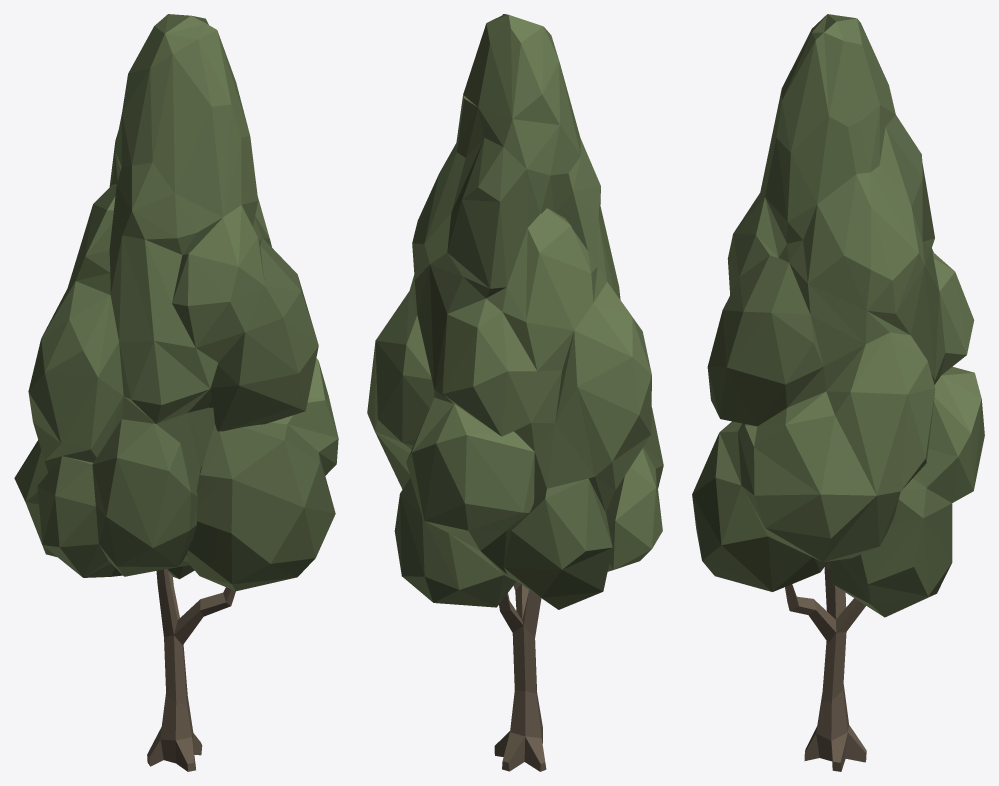
File: Env_Tree_02.glb
3 views of the same model, side by side, from view 1: azimuth 30°, elevation 25°; view 2: azimuth 150°, elevation 25°; view 3: azimuth 270°, elevation 25° (orthographic).
Parts seen in each view (by area): view 1: SM_Gen_Env_Tree_02; view 2: SM_Gen_Env_Tree_02; view 3: SM_Gen_Env_Tree_02.
Part boxes in pixels (bbox=[...]): SM_Gen_Env_Tree_02: bbox=[14, 14, 338, 771]; SM_Gen_Env_Tree_02: bbox=[367, 14, 663, 771]; SM_Gen_Env_Tree_02: bbox=[692, 14, 984, 771].
Size of the model in its own units: 3.34 by 8.58 by 3.05.
1 material, 1 textured.
